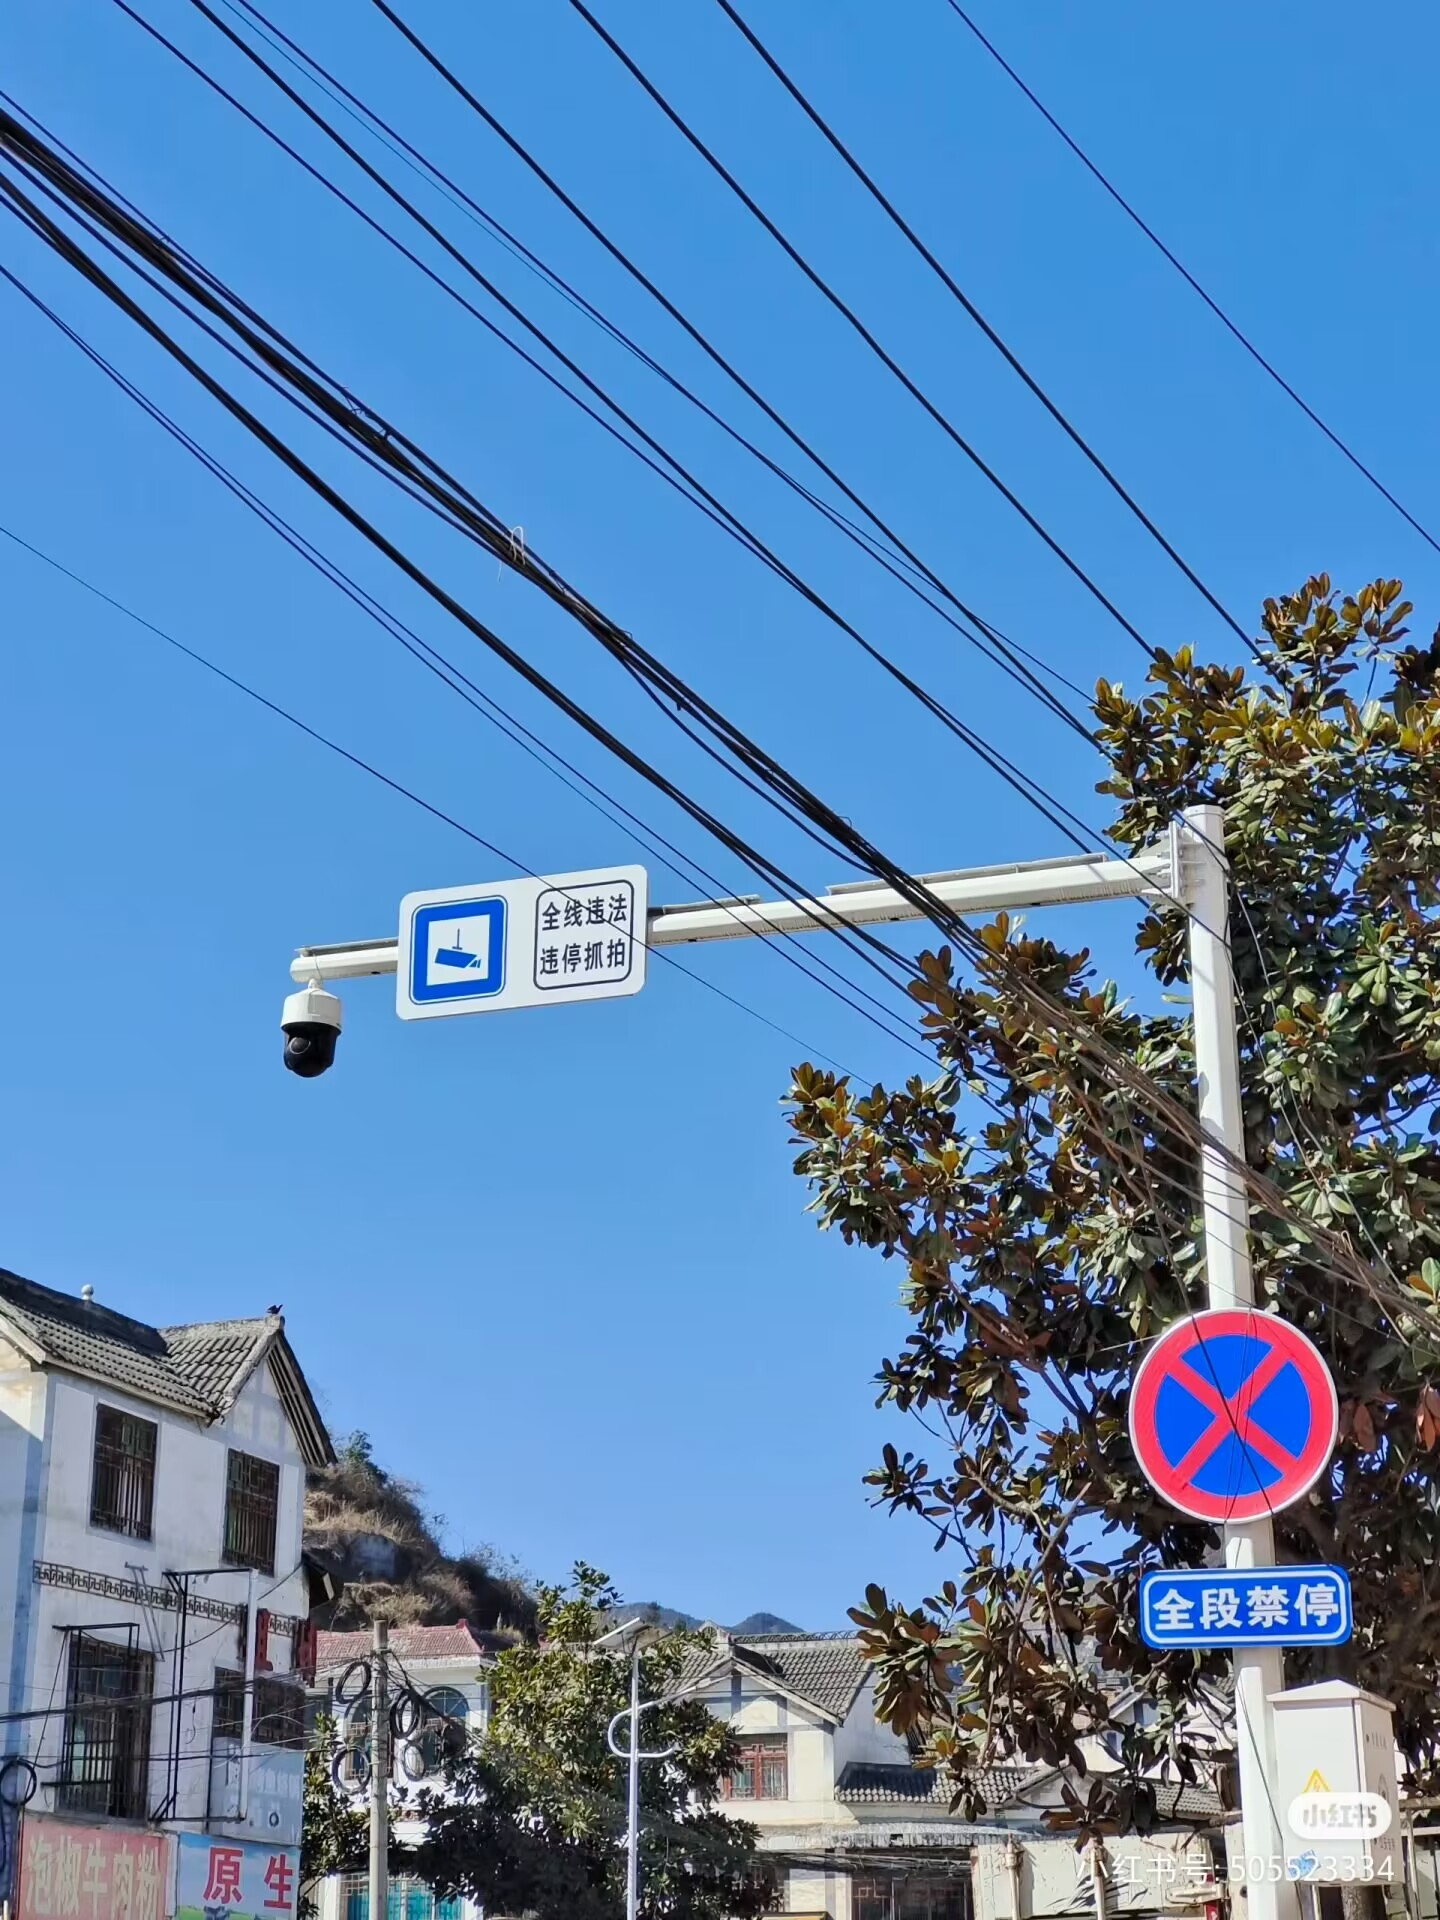pn: (1133, 1305, 1328, 1531)
